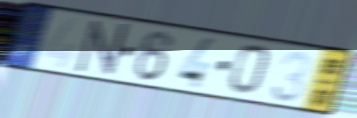0: (226, 43, 272, 97)
3: (271, 50, 311, 103)
4: (173, 35, 218, 91), (40, 15, 78, 72)
6: (133, 29, 176, 83)
N: (74, 19, 131, 78)
